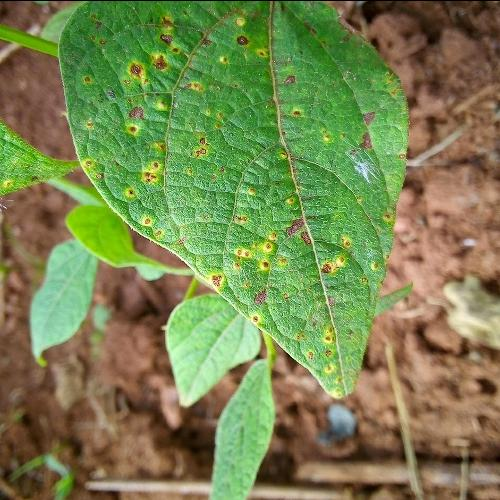hawar: (88, 5, 183, 150), (199, 246, 279, 308), (306, 258, 354, 347), (218, 11, 276, 67), (328, 100, 389, 153), (278, 210, 330, 249)
mozaik: (195, 76, 313, 208)
